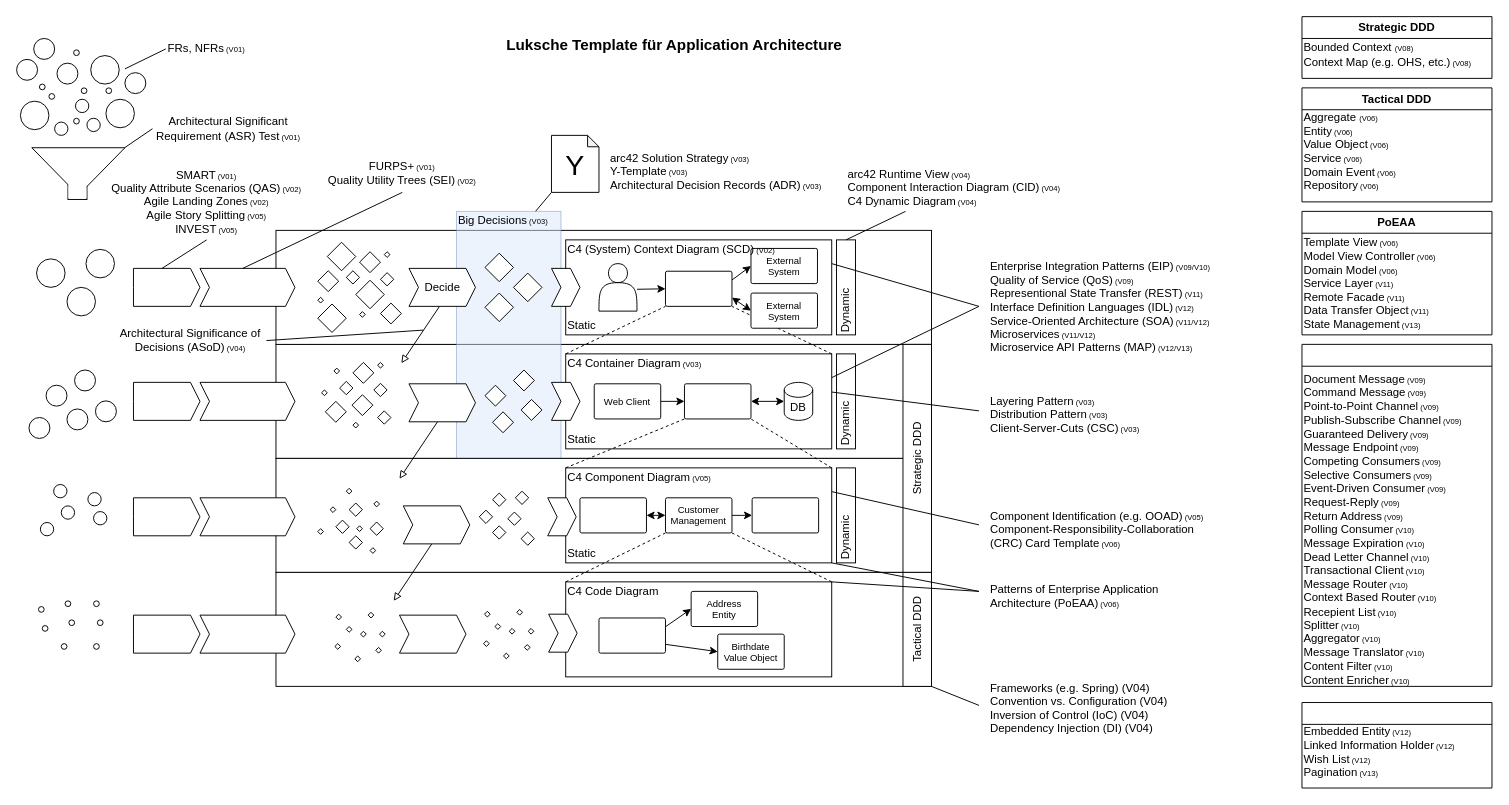
This 1509x805 diagram has some shape labels left out. The box of each missing label's shape, as (x1, y1, x2, y2) in pixels:
Billing Management: (751, 497, 819, 533)
Categorize: (199, 267, 295, 306)
Controller: (579, 497, 646, 533)
Customer Aggregate: (598, 617, 665, 653)
Customer Service: (684, 383, 751, 419)
EIP: (1301, 343, 1492, 686)
MAP: (1301, 702, 1492, 788)
SMARTify: (133, 267, 200, 306)
System: (665, 270, 732, 306)
